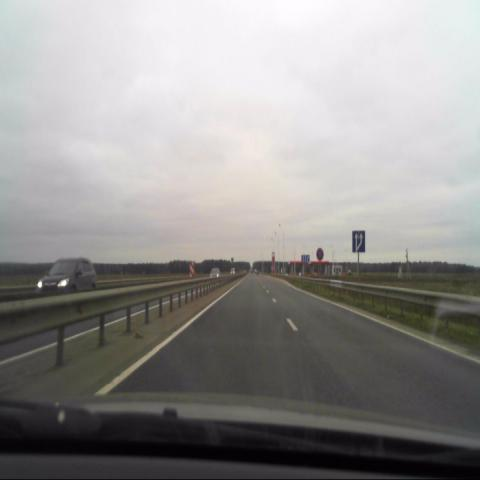5_15_3: (352, 230, 365, 251)
